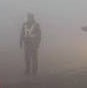person: (20, 12, 42, 75)
